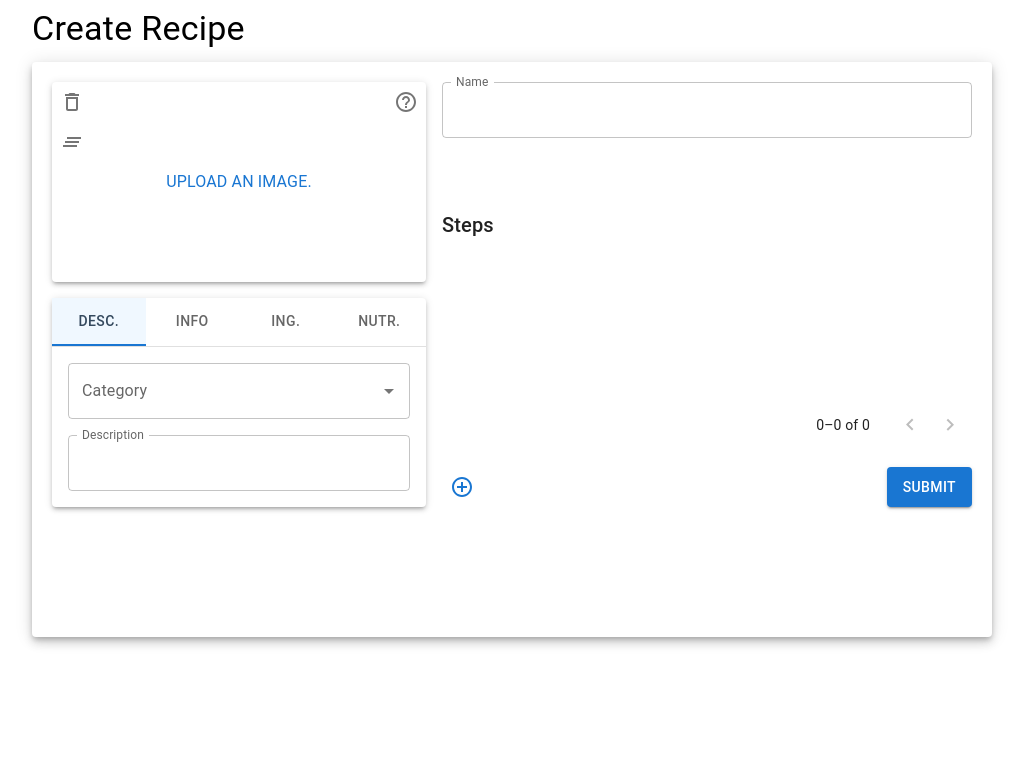
Scenario: Make sure images display and work › Test clear tooltip shows
# Tooltip displays text on hover
Hover over the button named "Delete All Images" at (72, 142), box [52,122,92,162]
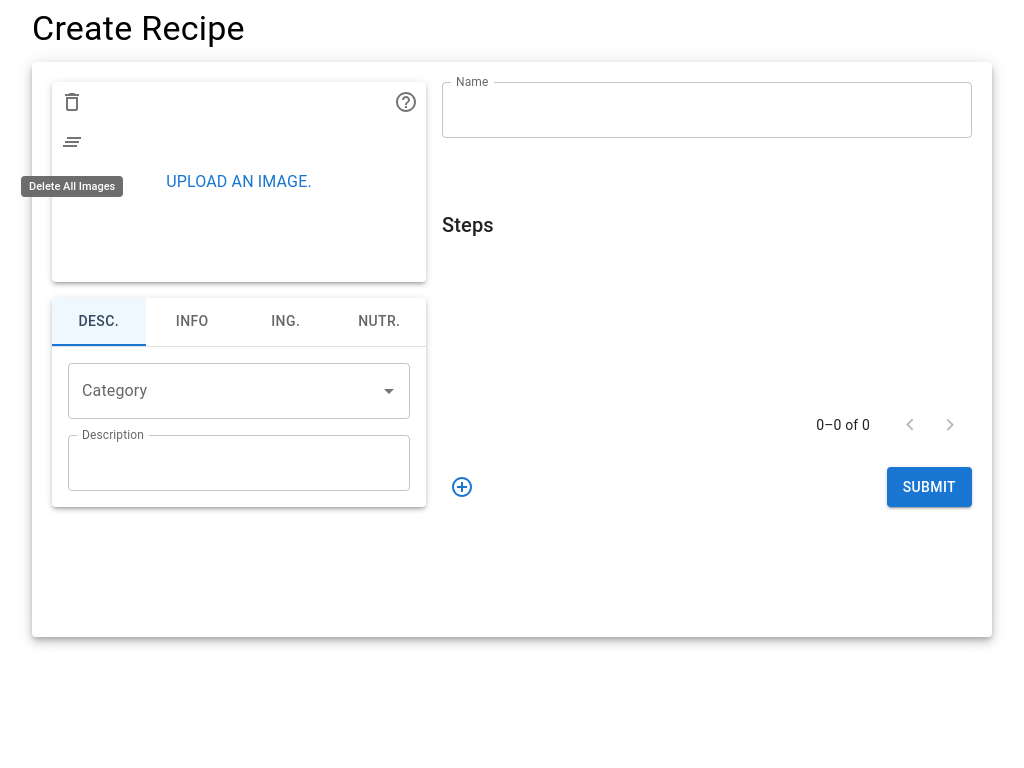
Expected: the tooltip "Delete All Images" is shown, [21,176,123,197]
